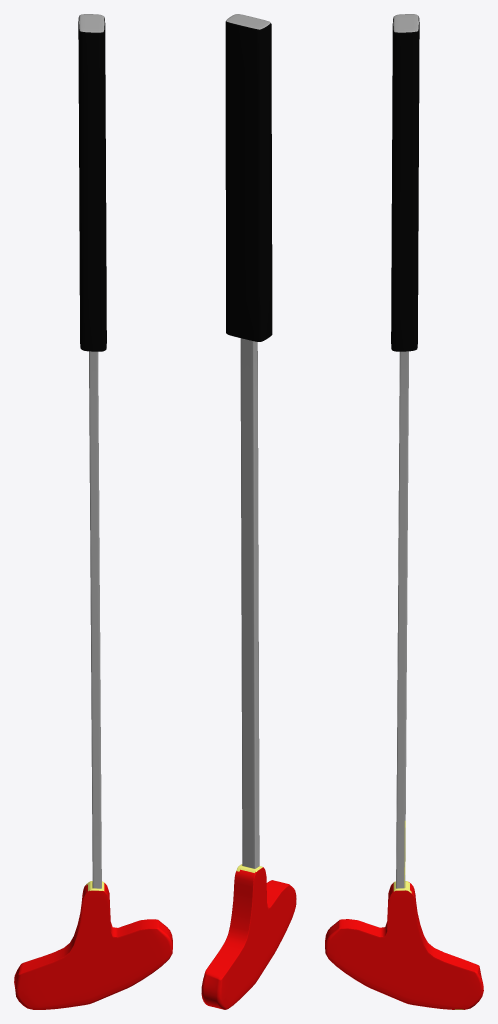
File: GolfClubRed.fbx
The picture shows the model from 3 angles, left to right: view 1: azimuth 90°, elevation 25°; view 2: azimuth 150°, elevation 25°; view 3: azimuth 270°, elevation 25°; orthographic projection.
Visible parts, largest first — view 1: pCube3; view 2: pCube3; view 3: pCube3.
Part boxes in pixels (bbox=[...]): pCube3: bbox=[14, 14, 172, 1009]; pCube3: bbox=[201, 14, 296, 1009]; pCube3: bbox=[325, 14, 483, 1009].
Size of the model in its own units: 2.17 by 51.65 by 7.56.
